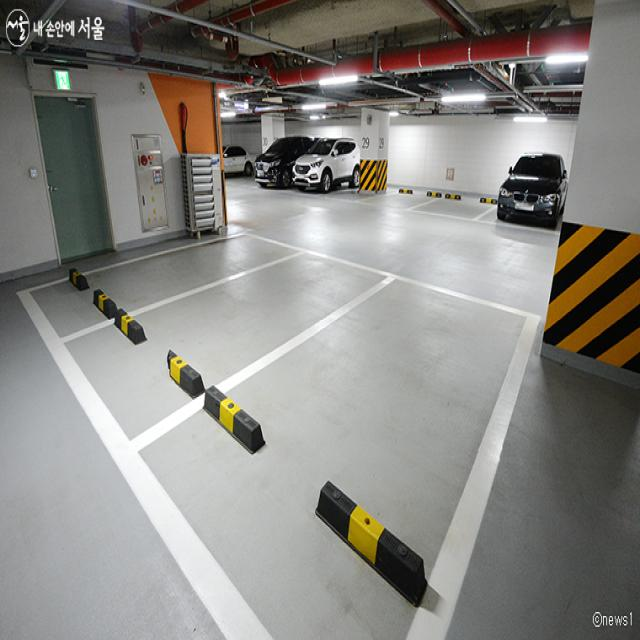empty: (126, 274, 535, 638), (57, 250, 393, 461), (26, 230, 303, 350), (426, 193, 491, 220), (366, 185, 429, 209)
occupied: (498, 151, 570, 229), (296, 125, 360, 199), (254, 136, 317, 189)
